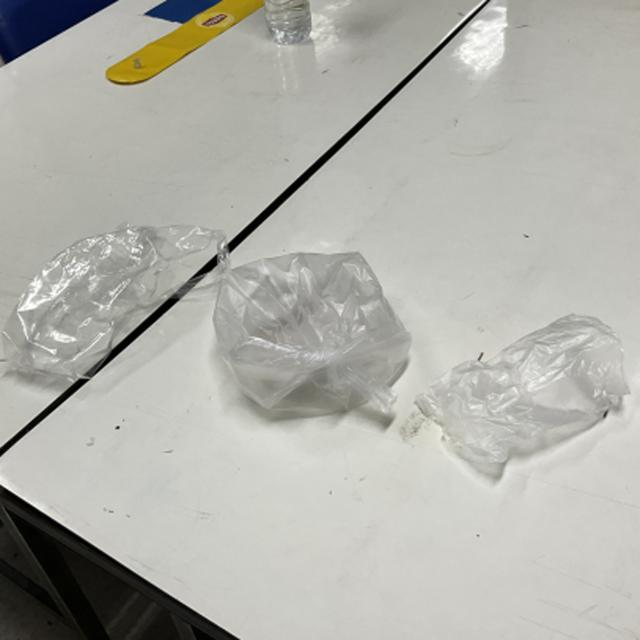Single-layer Plastic: (2, 225, 225, 380), (416, 314, 629, 475), (214, 252, 411, 416)
